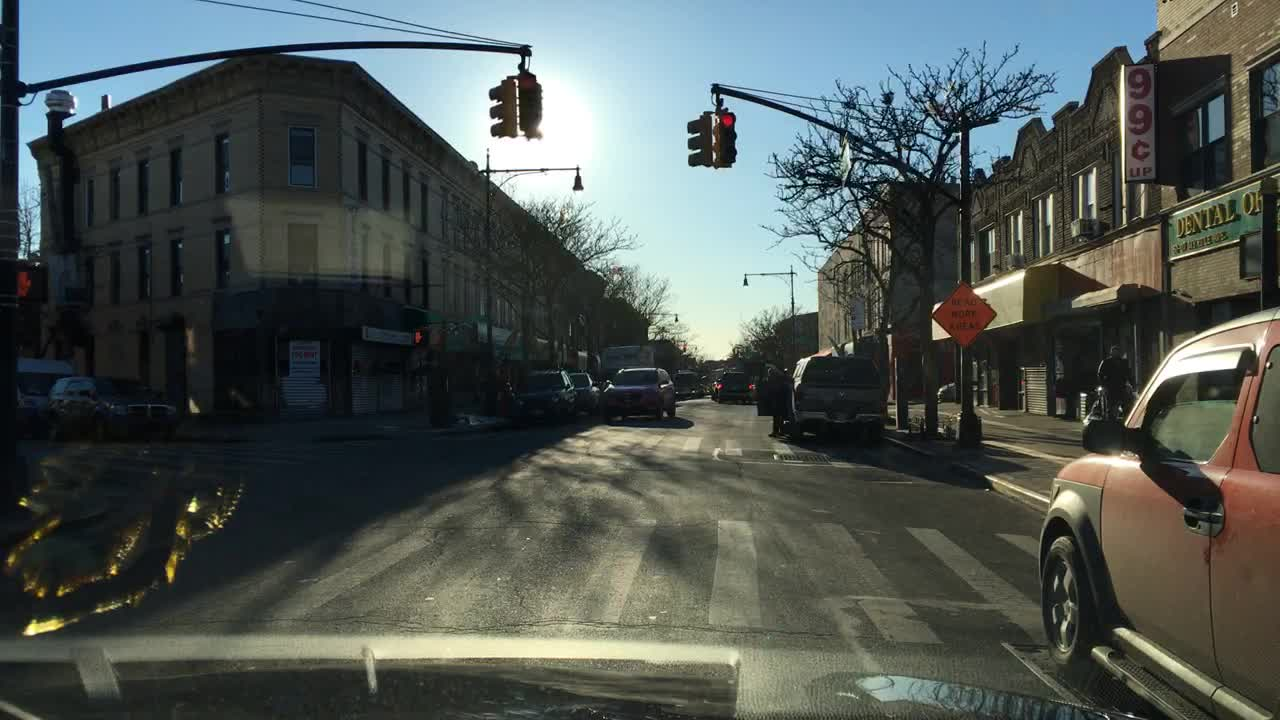car: (1037, 304, 1280, 717), (759, 353, 890, 443), (45, 374, 186, 442), (595, 363, 676, 420), (504, 365, 579, 423), (11, 356, 68, 429), (711, 370, 754, 403), (570, 368, 598, 408), (672, 368, 702, 397)
person: (1097, 342, 1135, 422), (767, 368, 791, 437)
traffic light: (486, 75, 518, 139), (685, 107, 711, 165), (711, 107, 736, 167), (11, 265, 50, 302), (515, 67, 536, 128), (412, 328, 430, 343)
traffic sign: (933, 282, 996, 347)
truck: (598, 343, 655, 380)
